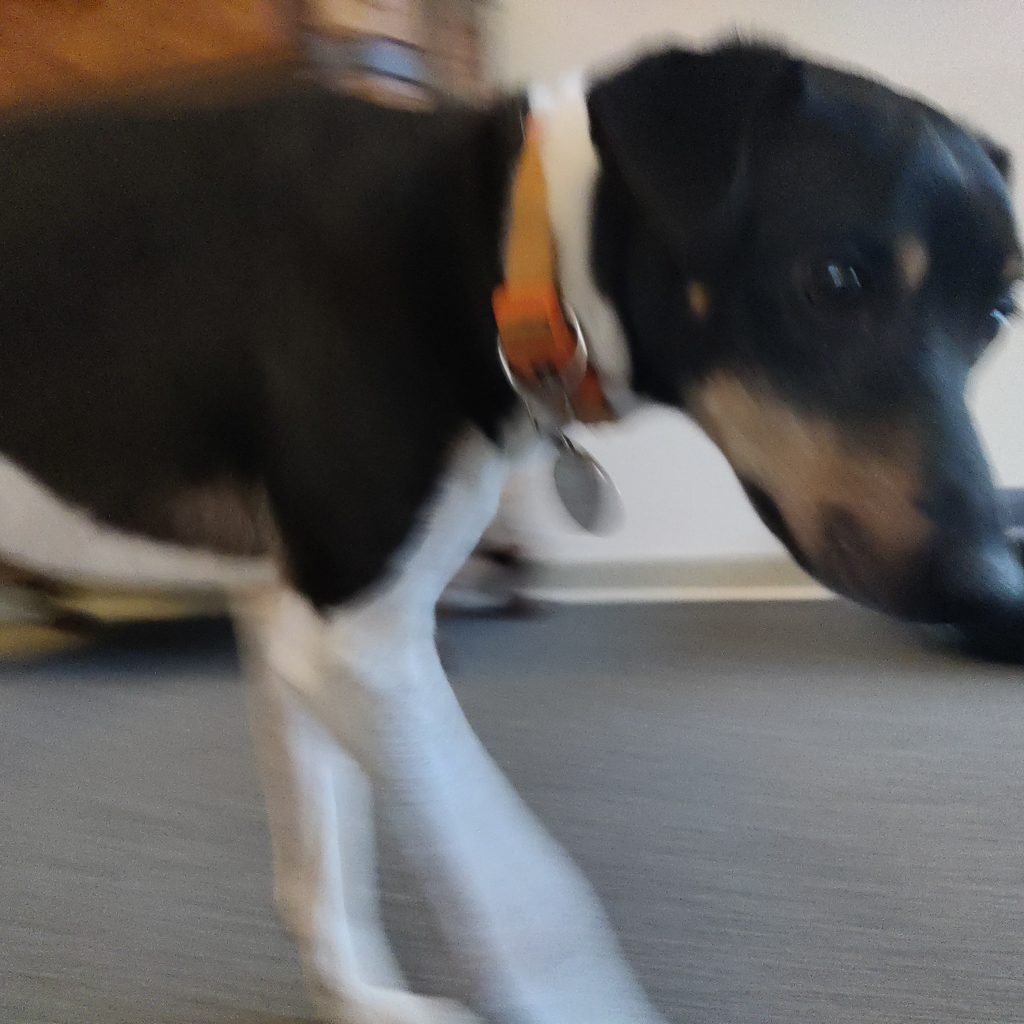Dog: (0, 18, 1024, 1024)
